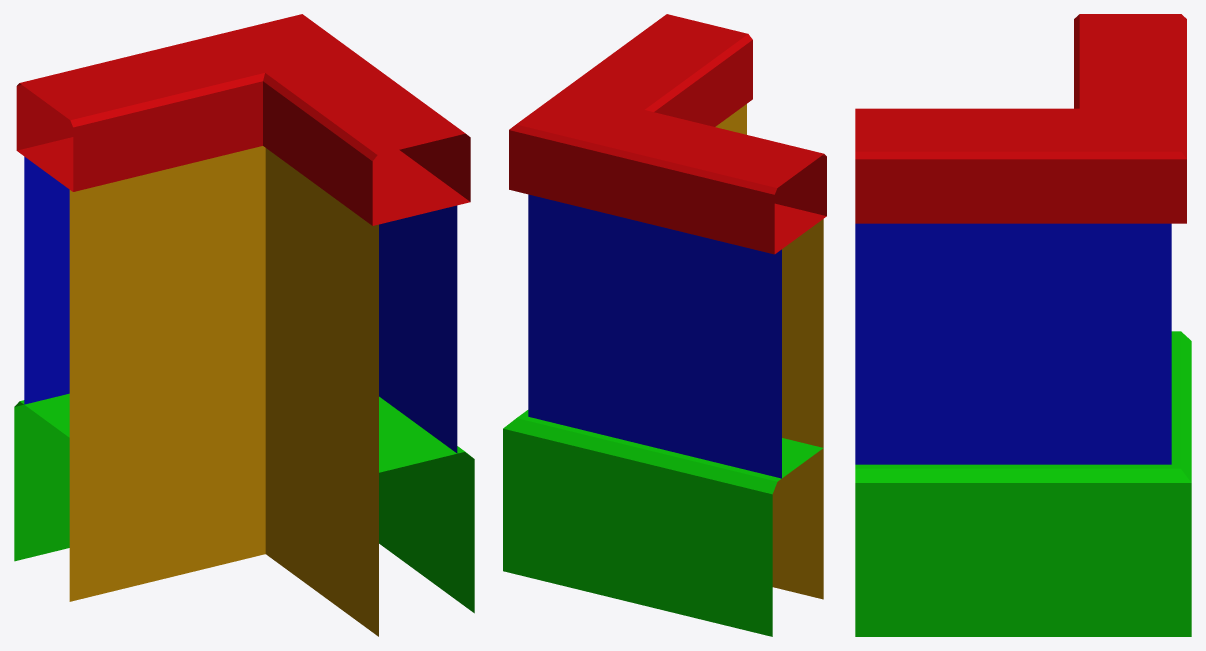
File: Wall_Corner.fbx
3 renders of one model, left to right at view 1: azimuth 30°, elevation 25°; view 2: azimuth 150°, elevation 25°; view 3: azimuth 270°, elevation 25°, orthographic. The views are drawn at different scales.
Visible parts, largest first — view 1: Cube.322; view 2: Cube.322; view 3: Cube.322.
Boxes of the visible parts, left/top/right/bottom form: Cube.322: left=14, top=14, right=474, bottom=636; Cube.322: left=503, top=14, right=826, bottom=636; Cube.322: left=855, top=14, right=1191, bottom=636.
Size of the model in its own units: 298 by 298 by 470.
